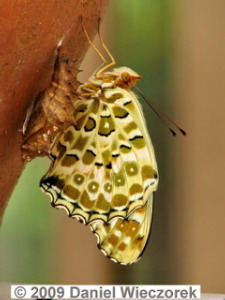Argyreus hyperbius: (37, 12, 187, 264)
butterfly: (39, 14, 189, 266)
